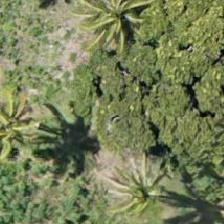coconut_tree: (94, 142, 184, 223), (78, 0, 168, 51), (0, 73, 47, 163)
